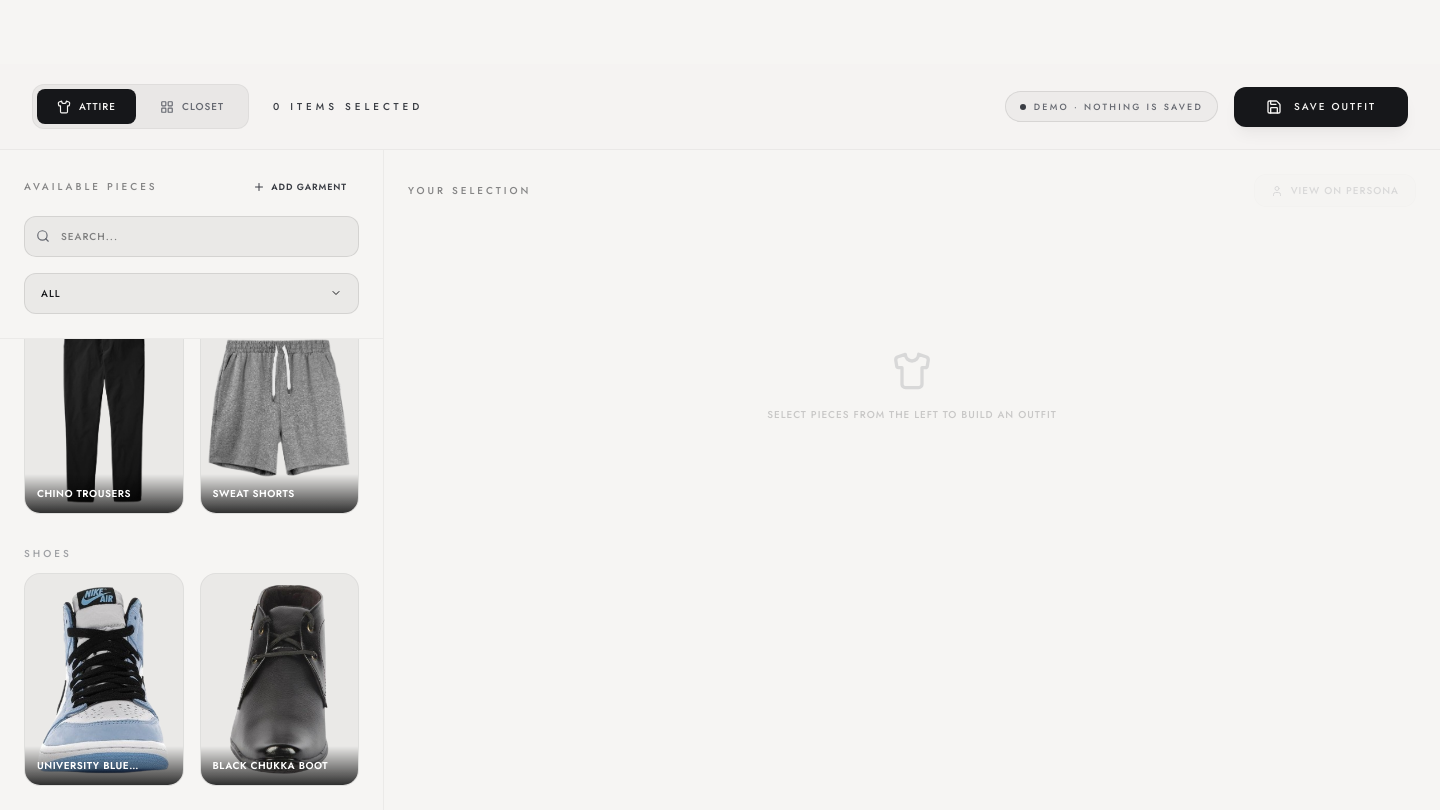
Test: DemoPage › a shoe is one selectable item
(page scrolled)
Click the element showing "University Blue Sneaker" at (104, 680), box [24, 574, 184, 786]
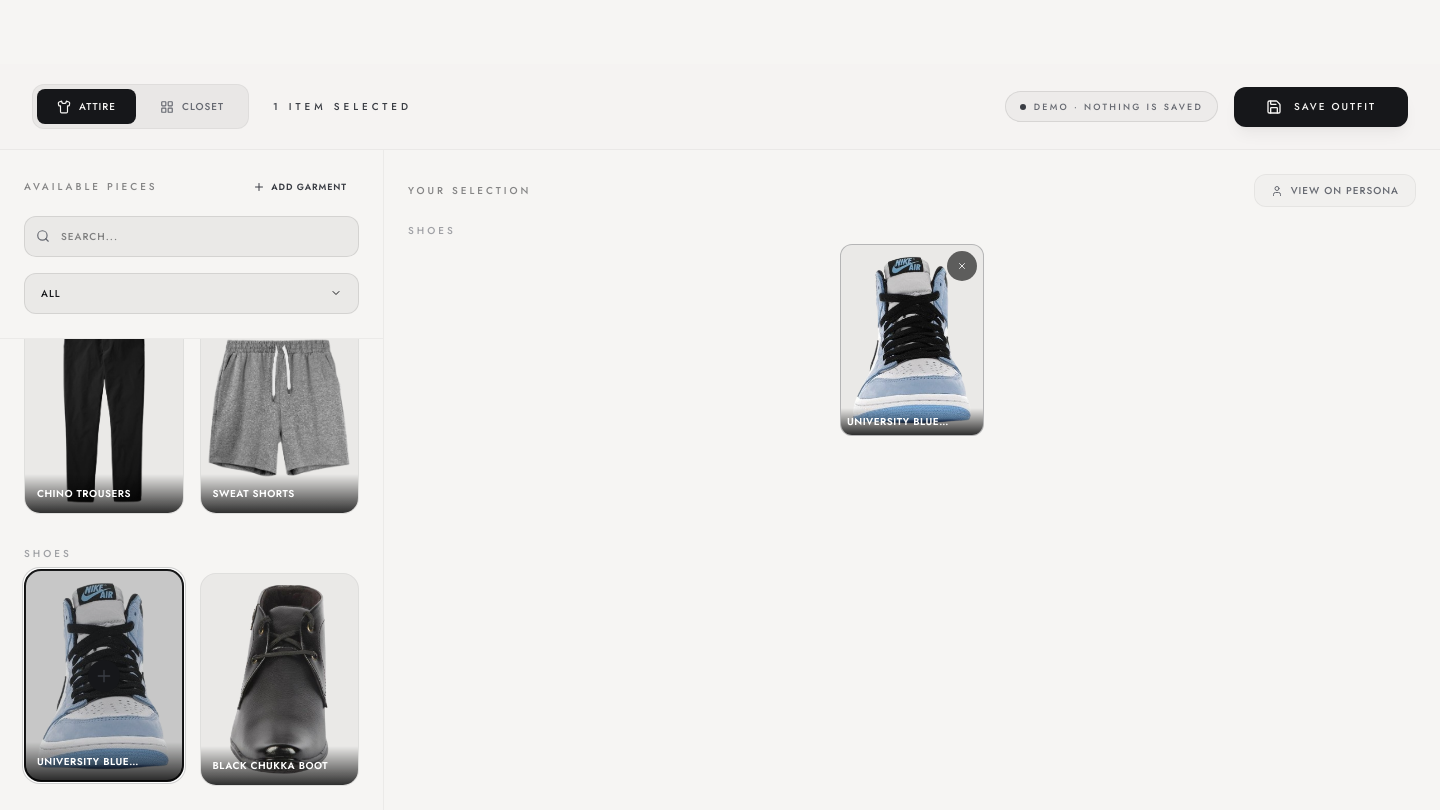
Now the text "1 Item Selected" is shown, box [273, 99, 412, 114]
